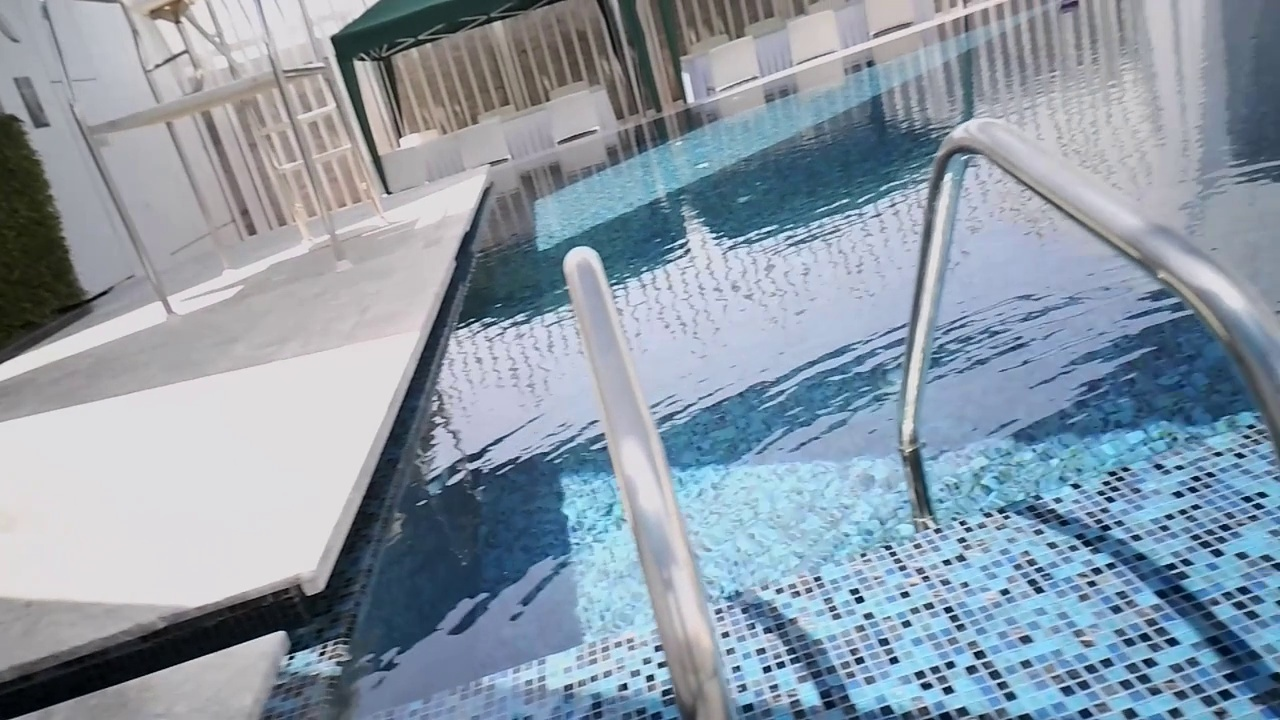debris: (1055, 0, 1082, 14)
